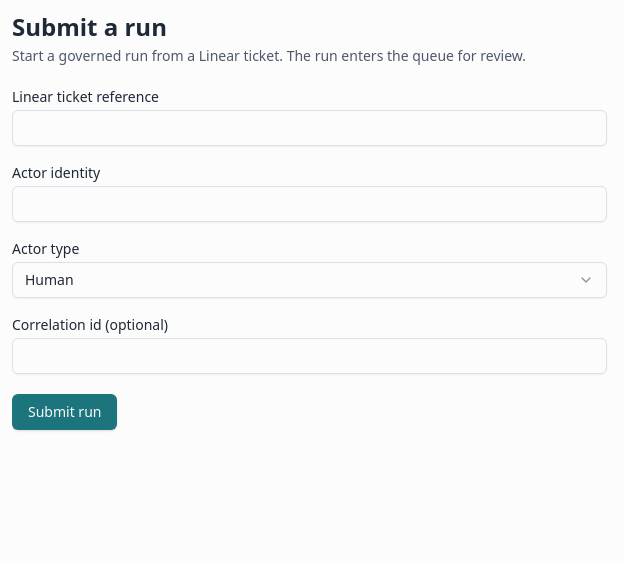
Test case: SubmitRunForm — post-submit lifecycle (review fixes D1/D2) › disables the submit button after a success so a re-click cannot mint a new key / duplicate run (D2)
The width and height of the screenshot is (624, 563).
Type "LIN-2210" into the field labelled "Linear ticket reference" at (309, 128), box [12,110,607,146]
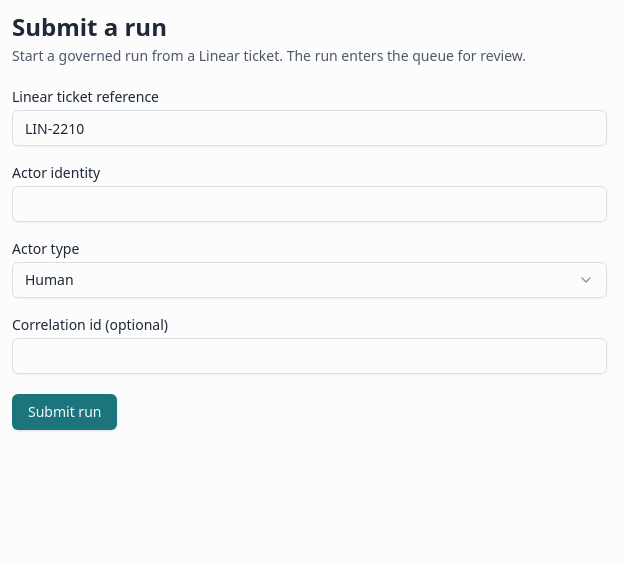
Type "alex@example.com" into the field labelled "Actor identity" at (309, 204), box [12,186,607,222]
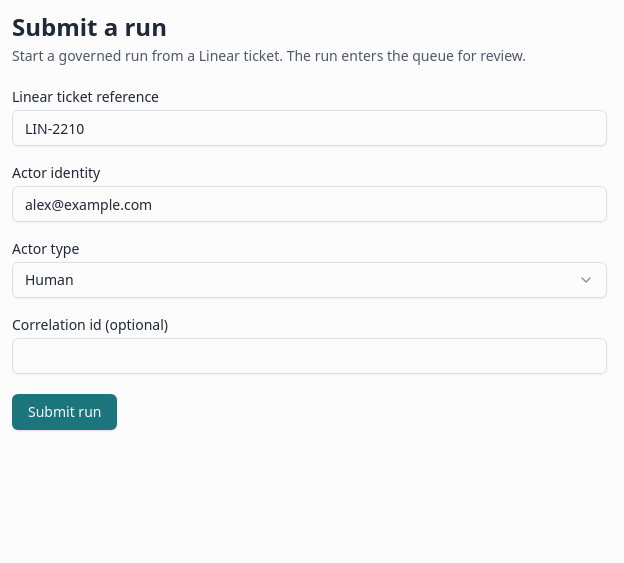
Click the button with test id "submit-run-button" at (65, 412), box [12,394,117,430]
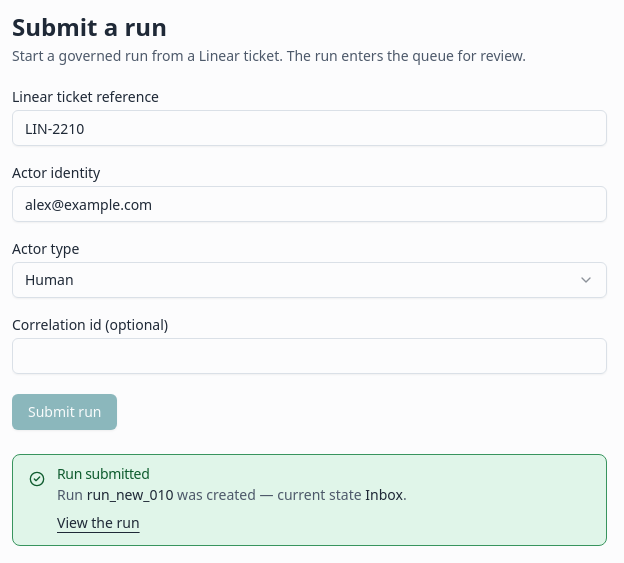
Result: the message "Run submitted Run run_new_010 was created — current state Inbox. View the run" is shown at [12,454,607,546]
Result: the button with test id "submit-run-button" is disabled at [12,394,117,430]
